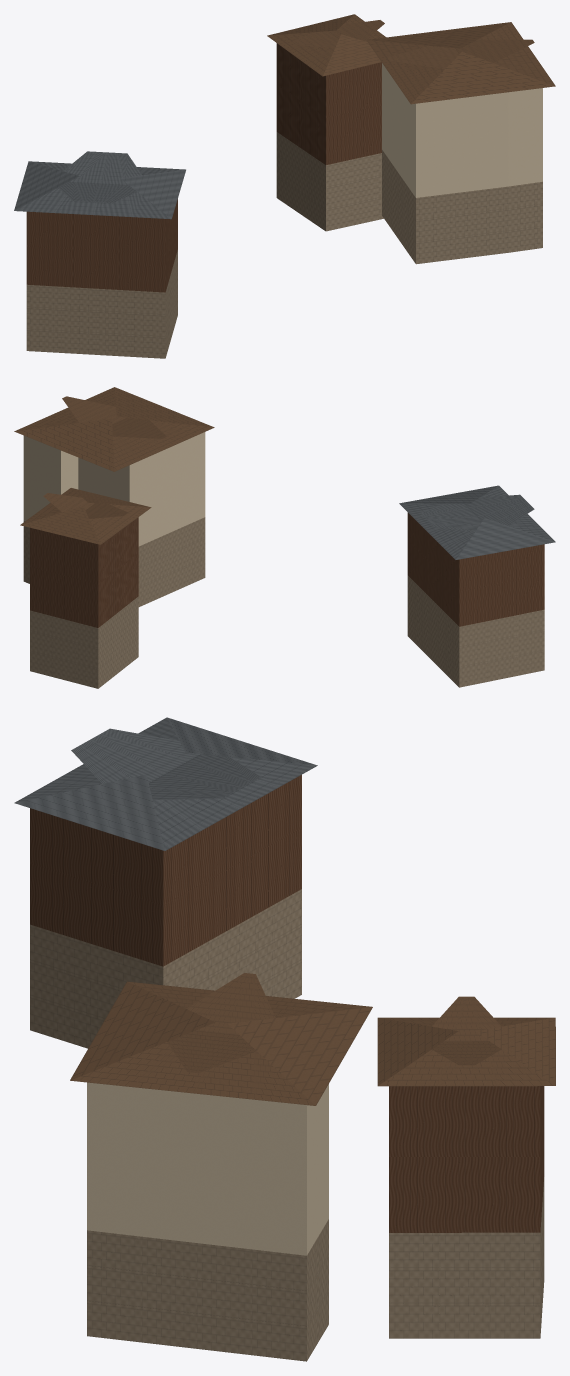
File: bld_c43_31_271.gltf
3 renders of one model, top to bottom at view 1: azimuth 30°, elevation 25°; view 2: azimuth 150°, elevation 25°; view 3: azimuth 270°, elevation 25°, orthographic. The views are drawn at different scales.
Visible parts, largest first — view 1: bld_c43_31_271; view 2: bld_c43_31_271; view 3: bld_c43_31_271.
Part boxes in pixels (<box>): bld_c43_31_271: <box>14,14,555,358</box>; bld_c43_31_271: <box>14,387,555,688</box>; bld_c43_31_271: <box>14,717,555,1361</box>.
Bounding box in the file's own units: 43.82 × 15.5 × 23.67.
5 materials, 5 textured.
